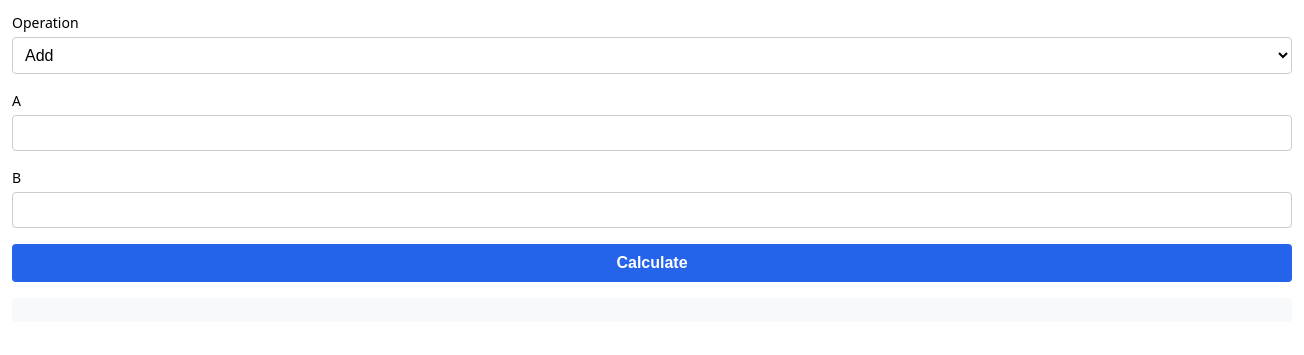
clears previous result/error on new submission
Type "2" into the field labelled "A".
click(652, 133); type("2")  # box 12,115 -> 1292,151
Type "3" into the field labelled "B".
click(652, 210); type("3")  # box 12,192 -> 1292,228
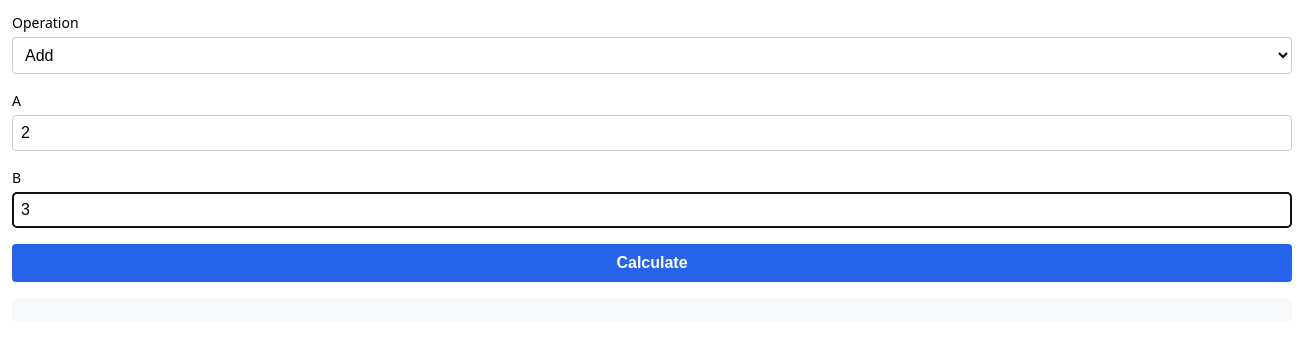
Click the button "Calculate".
click(652, 263)  # box 12,244 -> 1292,282
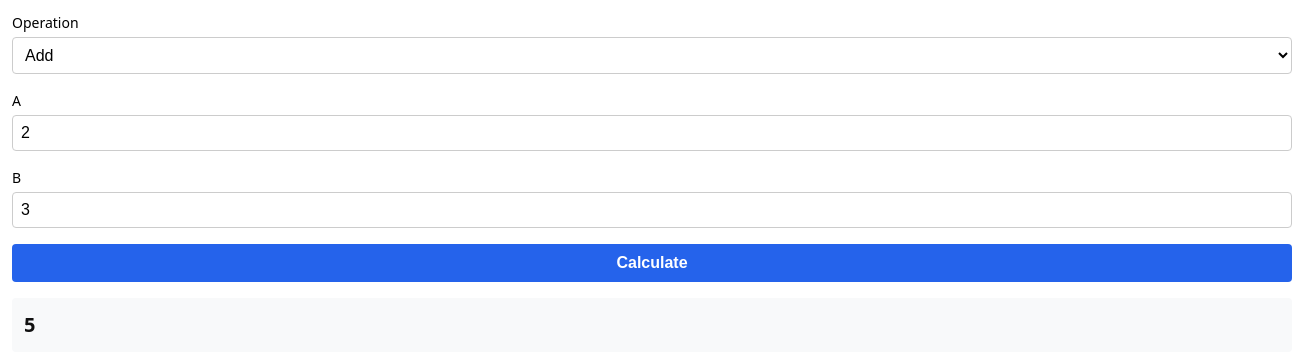
Expected: the text "5" is shown, 24,311 -> 36,338
Replace the text in the field labelled "A" with "1" at (652, 133), box 12,115 -> 1292,151
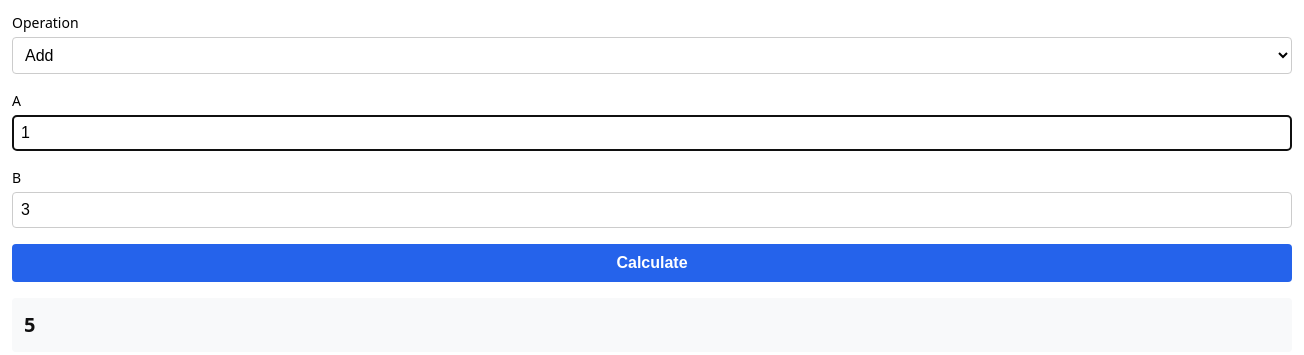
Replace the text in the field labelled "B" with "0" at (652, 210), box 12,192 -> 1292,228
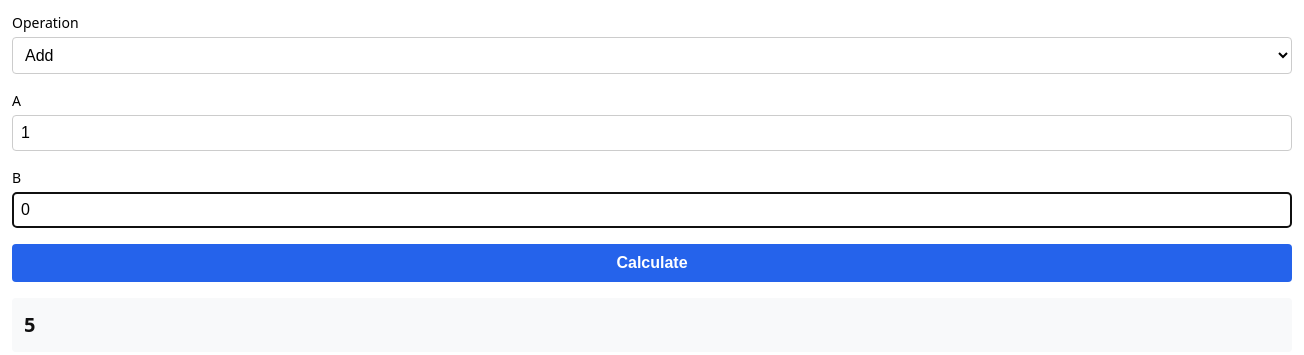
Select "Divide" in the dropdown labelled "Operation" at (652, 56), box 12,37 -> 1292,74
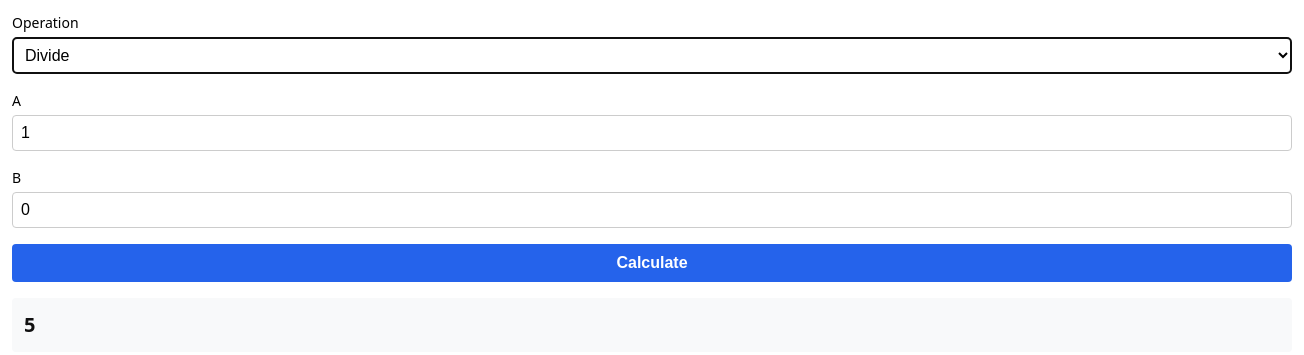
Click the button "Calculate".
click(652, 263)  # box 12,244 -> 1292,282
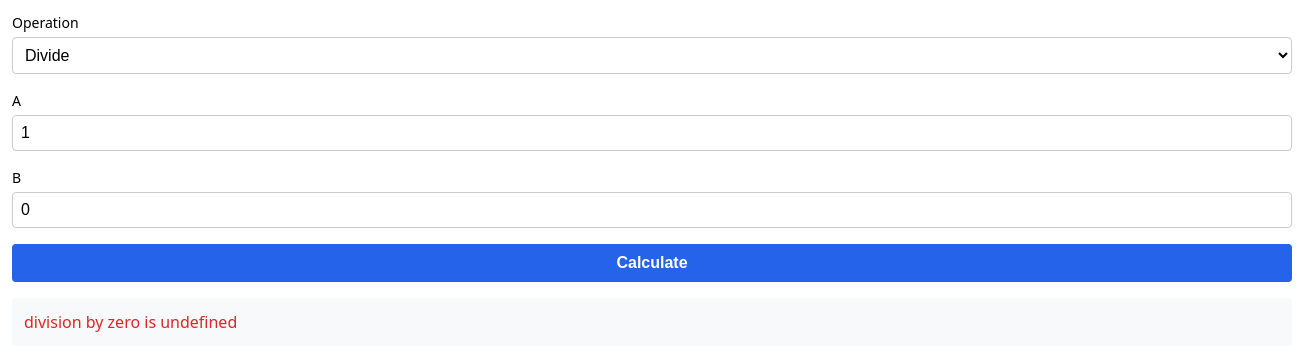
Expected: the text "division by zero is undefined" is shown, 24,311 -> 237,333
Expected: the text "5" is gone
